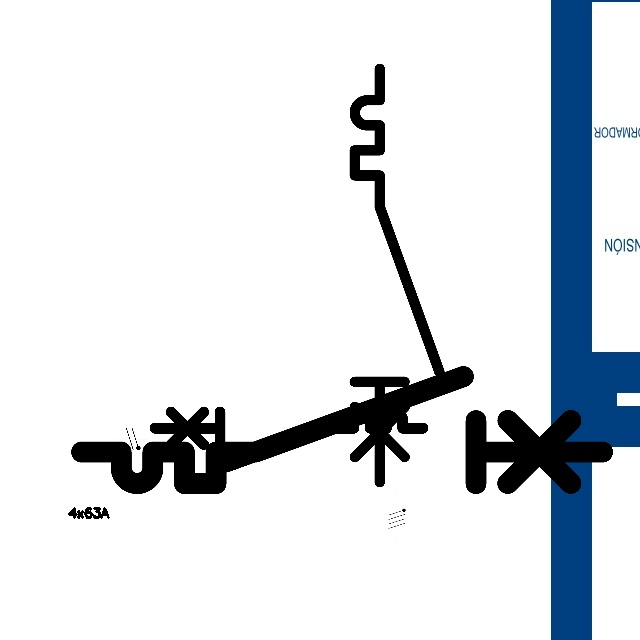interruptor_termomagnetico: (68, 363, 616, 497), (344, 58, 450, 493), (147, 405, 429, 474)
